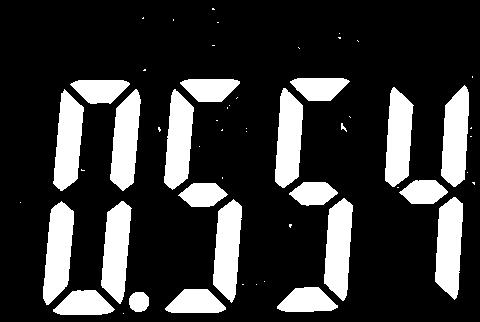0: (38, 76, 142, 318)
4: (383, 83, 473, 304)
5: (271, 72, 358, 315), (161, 76, 248, 315)
dot: (128, 289, 153, 315)
